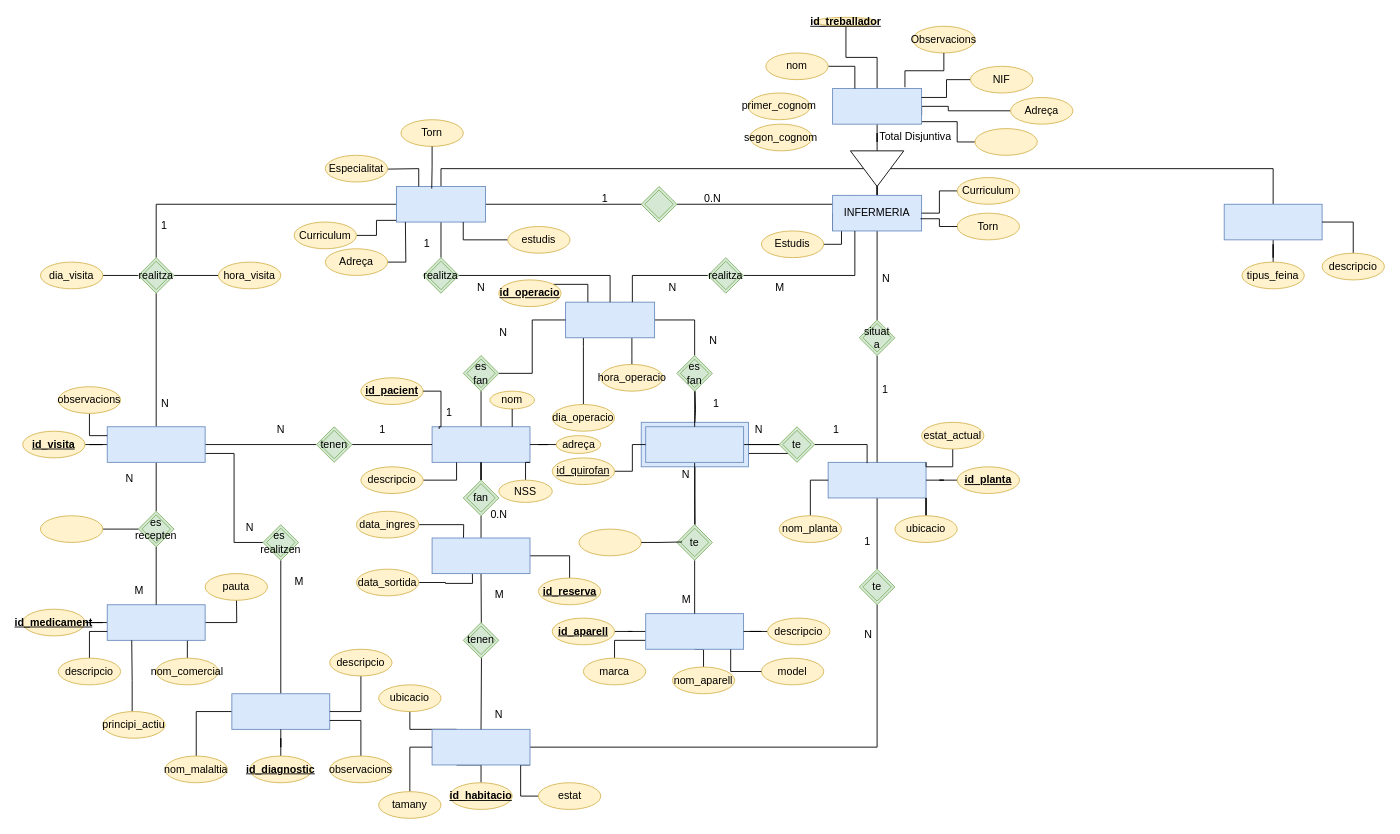
The diagram is 1400 pixels wide and 834 high, and some of its shapes have lost their labels. Here are the shapes that lost their labels. From the top down, the box of each, then its label:
(832, 88, 922, 124): TREBALLADORS
(974, 128, 1037, 155): Telefon
(396, 186, 485, 222): METGES
(640, 186, 677, 222): te assignat
(1223, 203, 1322, 240): PERSONAL VARI
(565, 301, 655, 338): OPERACIONS
(106, 426, 205, 462): VISITES
(431, 426, 530, 462): PACIENTS
(645, 426, 744, 462): QUIROFANs
(827, 461, 926, 498): PLANTA
(40, 515, 103, 542): dosis
(578, 528, 641, 556): quantitat
(431, 537, 530, 574): RESERVES
(106, 604, 205, 640): MEDICAMENTS
(645, 613, 744, 649): APARELLS
(231, 693, 330, 729): DIAGNOSTICS
(431, 728, 530, 765): HABITACIONS
